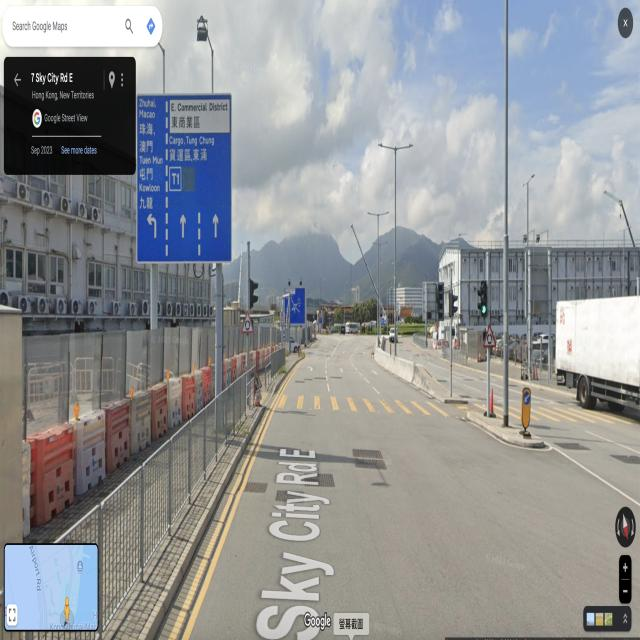Direction-Sign: (136, 92, 232, 263), (285, 287, 304, 322)
Order-Sign: (524, 392, 530, 404)
Warning-Sign: (483, 324, 497, 346), (241, 310, 254, 332)
